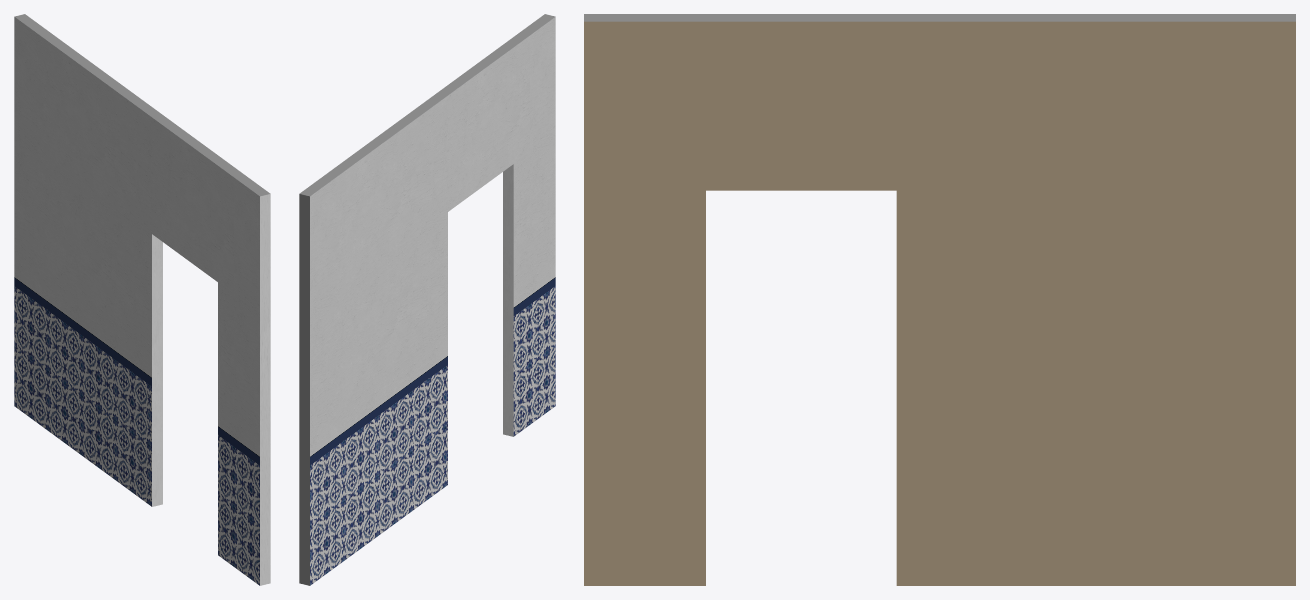
The model's file is Wall 3.FBX.
3 views of the same model, side by side, from view 1: azimuth 30°, elevation 25°; view 2: azimuth 150°, elevation 25°; view 3: azimuth 270°, elevation 25° (orthographic). The views are drawn at different scales.
Parts seen in each view (by area): view 1: Wall 3; view 2: Wall 3; view 3: Wall 3.
Boxes of the visible parts, <box> form: Wall 3: <box>14,14,270,585</box>; Wall 3: <box>299,14,555,585</box>; Wall 3: <box>584,14,1295,585</box>.
Bounding box in the file's own units: 8.42 × 293 × 335.
3 materials, 1 textured.
